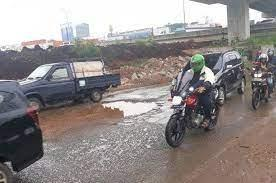Pothole: (22, 94, 165, 134)
